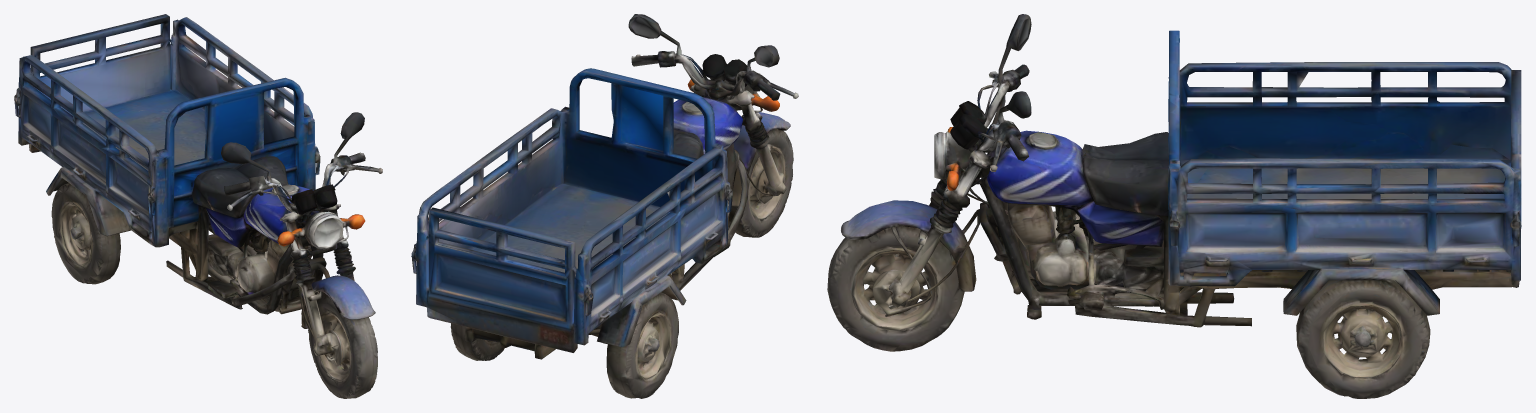
3 views of the same model, side by side, from view 1: azimuth 30°, elevation 25°; view 2: azimuth 150°, elevation 25°; view 3: azimuth 270°, elevation 25° (orthographic). The views are drawn at different scales.
Parts seen in each view (by area): view 1: node_0; view 2: node_0; view 3: node_0.
Boxes of the visible parts, x1,y1,x2,y2 form: node_0: [14, 14, 382, 398]; node_0: [411, 14, 798, 398]; node_0: [827, 14, 1521, 398].
Size of the model in its own units: 0.4156 by 0.5217 by 1.11.
1 material, 1 textured.
